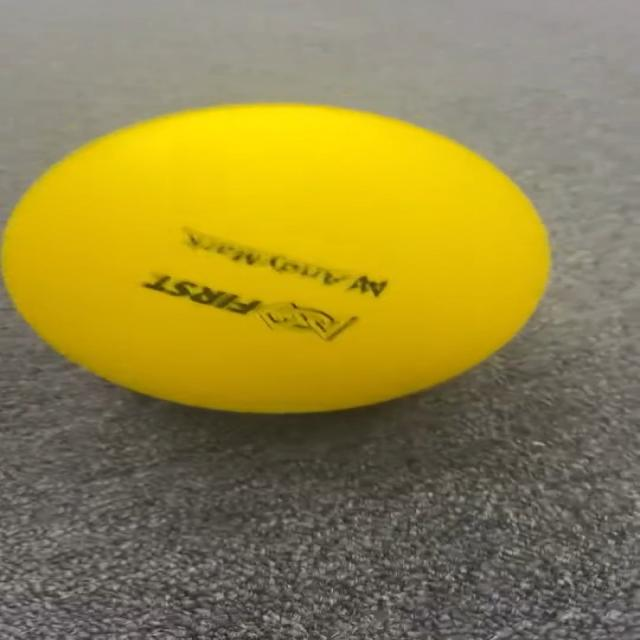Fuels: (2, 105, 548, 410)
